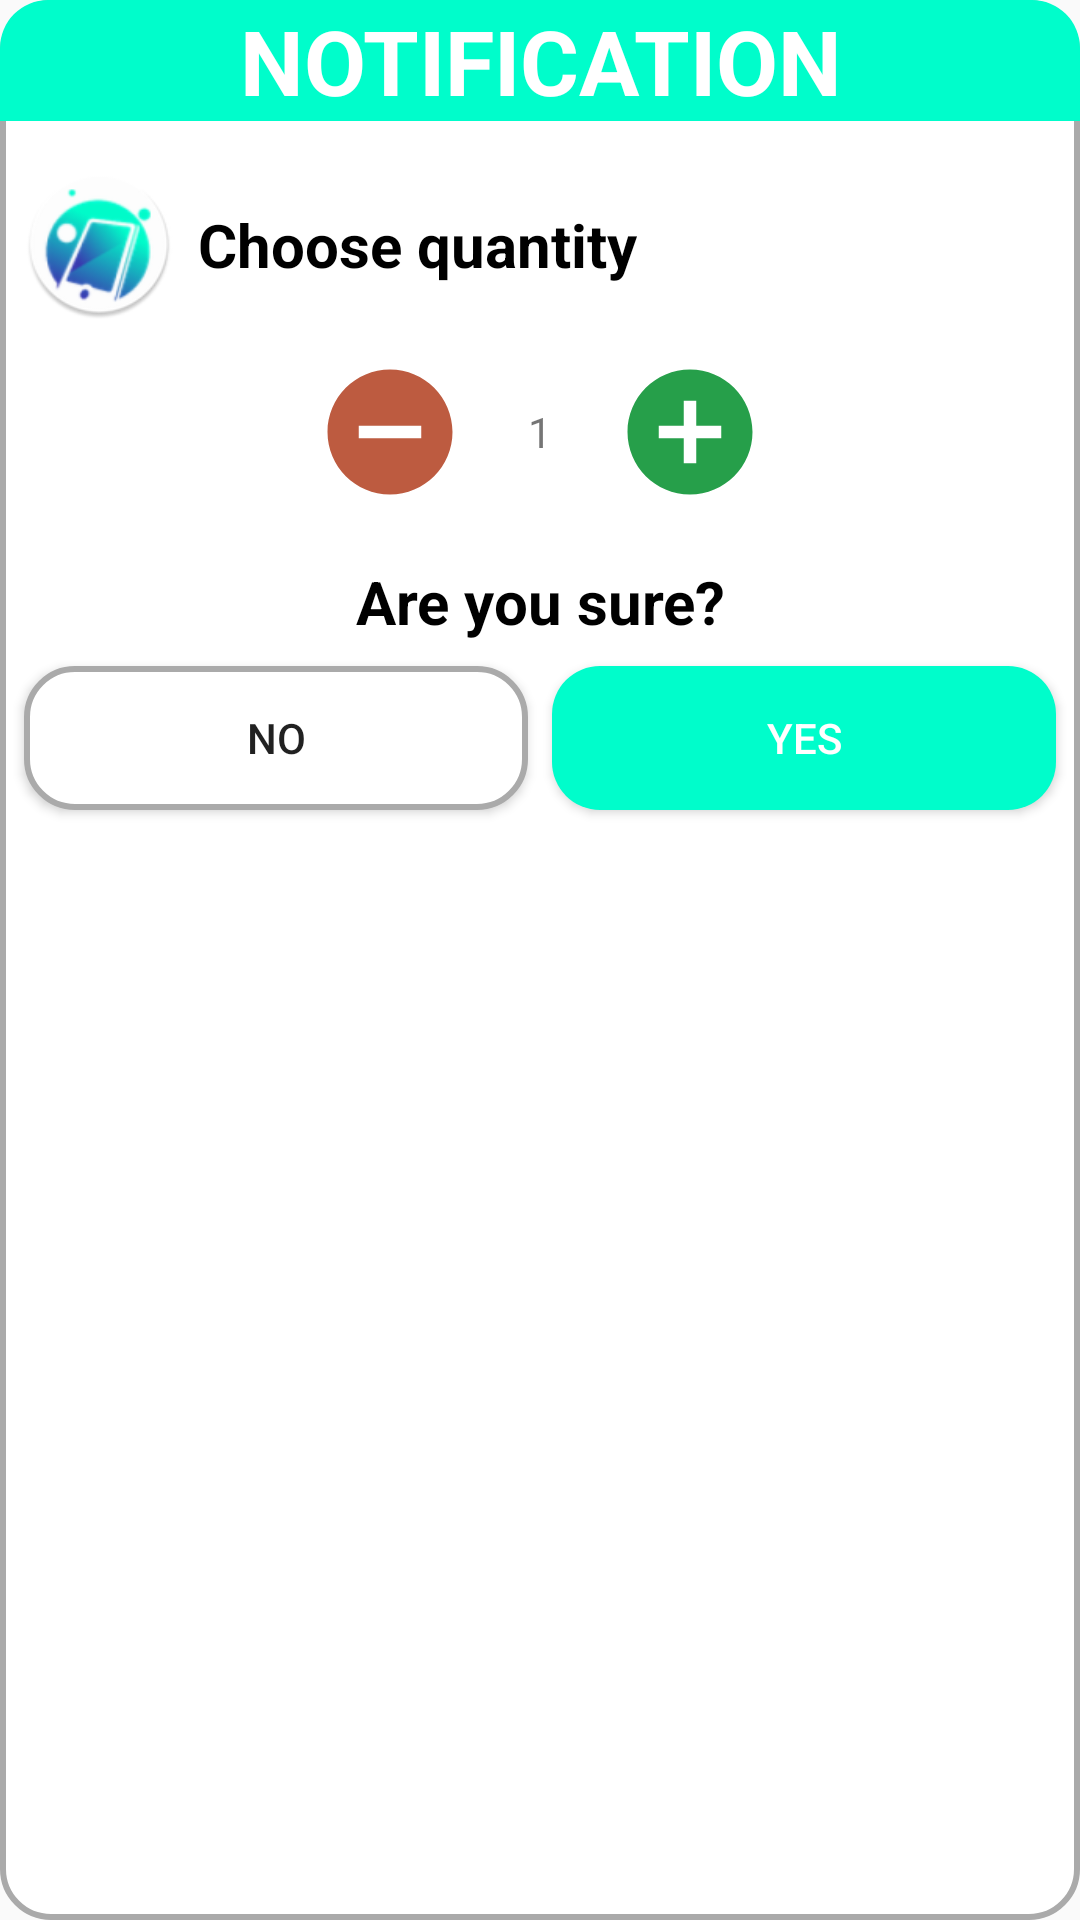

Icons on this 1080×1920 Android screen, each with the point to tap as [x,y]:
add: [690,432]
remove: [390,432]
